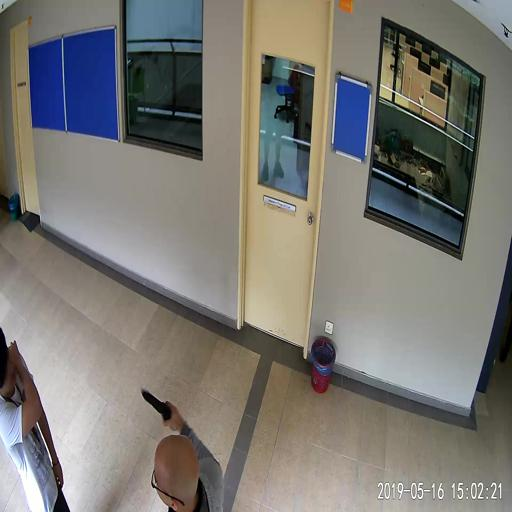pistol: (140, 387, 173, 428)
